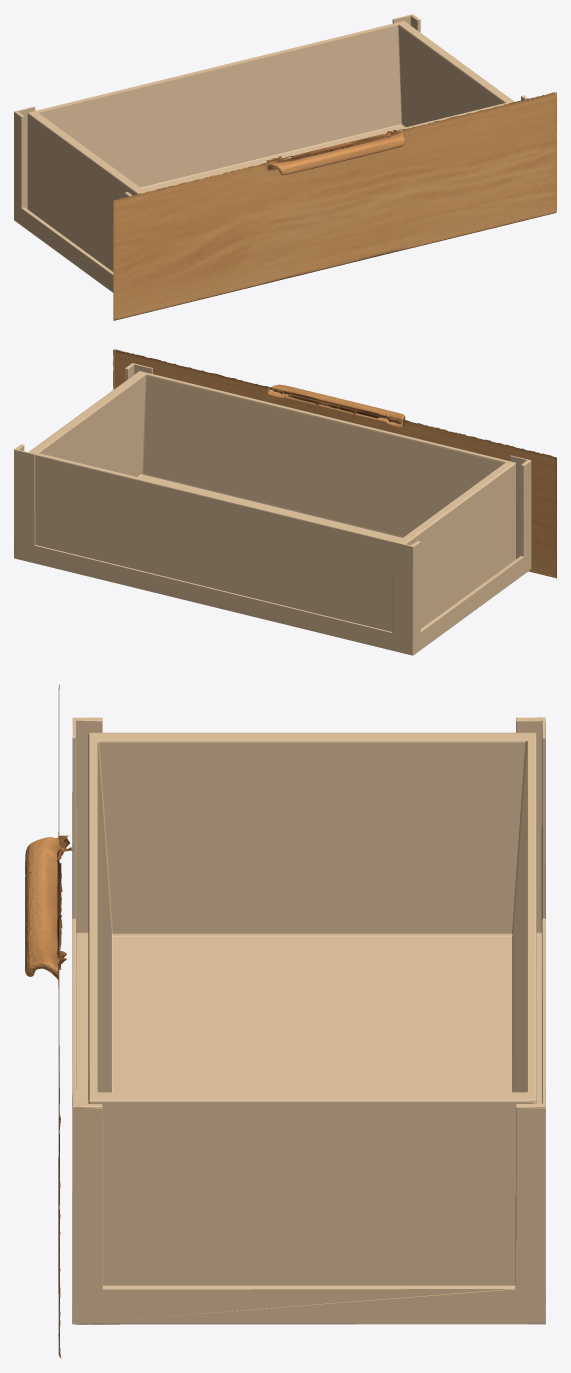
Rendered from dresser-drawer-top.glb.
The picture shows the model from 3 angles, top to bottom: view 1: azimuth 30°, elevation 25°; view 2: azimuth 150°, elevation 25°; view 3: azimuth 270°, elevation 25°; orthographic projection. The views are drawn at different scales.
Visible parts, largest first — view 1: source_front_cap_6, prefab_drawer_body_7; view 2: prefab_drawer_body_7, source_front_cap_6; view 3: prefab_drawer_body_7, source_front_cap_6.
Part boxes in pixels (x1,y1,x2,y2): source_front_cap_6: (113,92,556,320); prefab_drawer_body_7: (14,14,527,292); prefab_drawer_body_7: (14,363,531,655); source_front_cap_6: (113,349,556,578); prefab_drawer_body_7: (72,717,545,1324); source_front_cap_6: (25,684,69,1358).
Bounding box in the file's own units: 0.8175 × 0.2134 × 0.4159.
2 materials, 1 textured.
